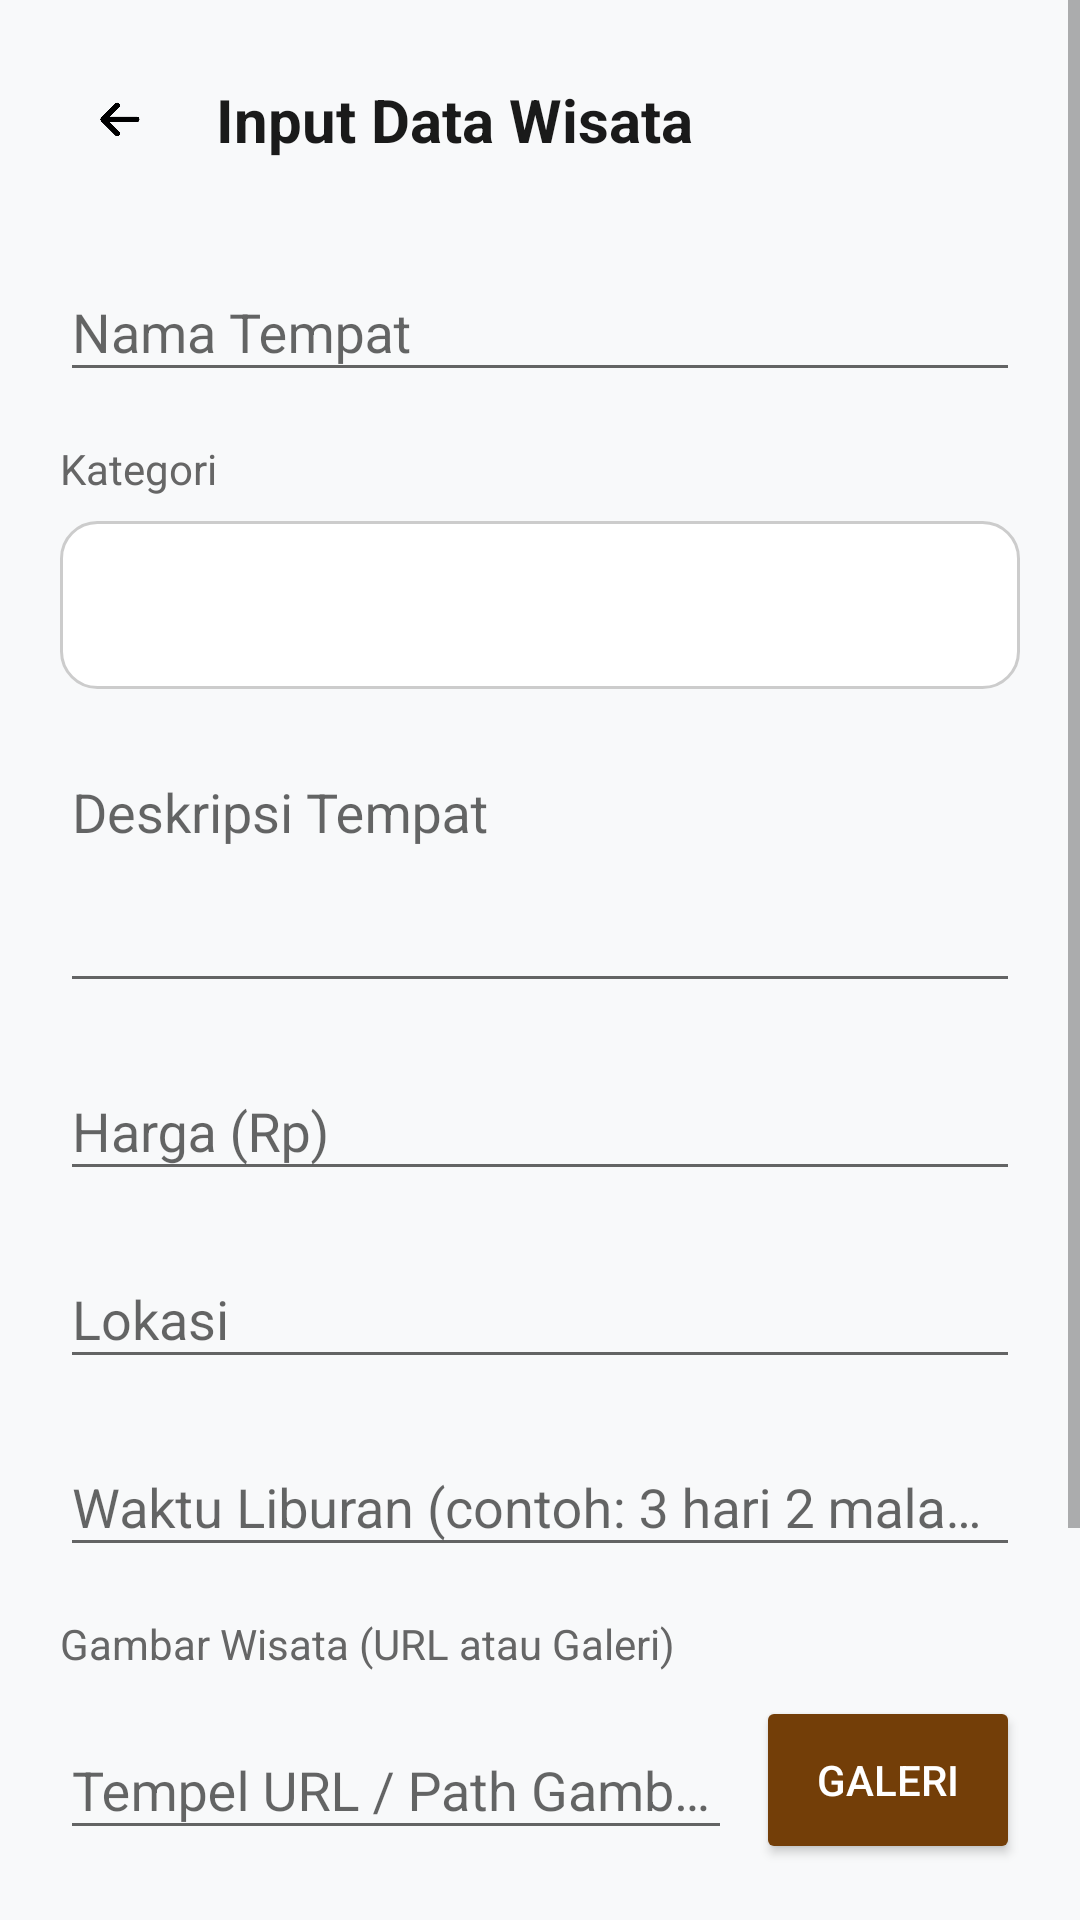

Where icons sit on this 1080w x 1920h app screen, as (x1, y1, x2, y2):
Back: (100, 102, 140, 136)
